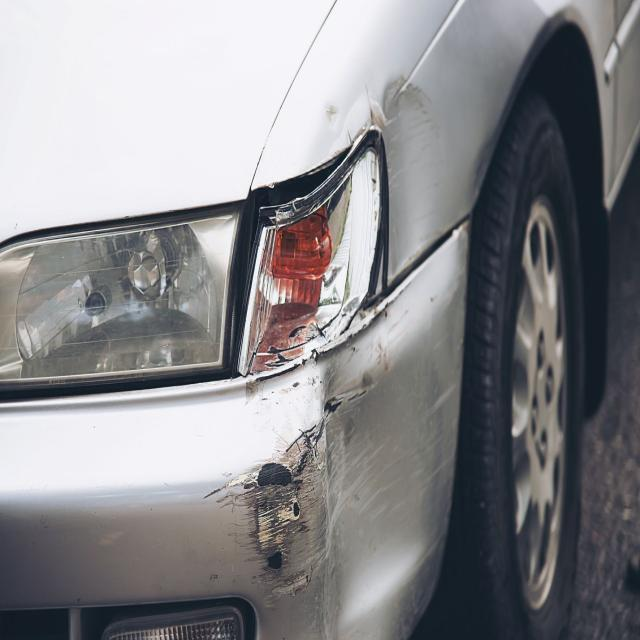crack: (234, 127, 388, 376)
crush: (198, 70, 471, 640), (325, 105, 340, 124)
dent: (315, 337, 431, 640), (379, 80, 451, 283)
